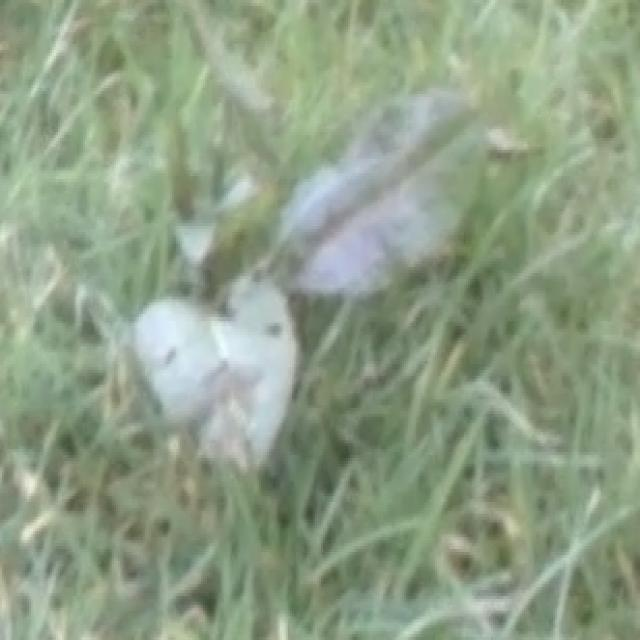organic waste: (72, 90, 515, 510)
